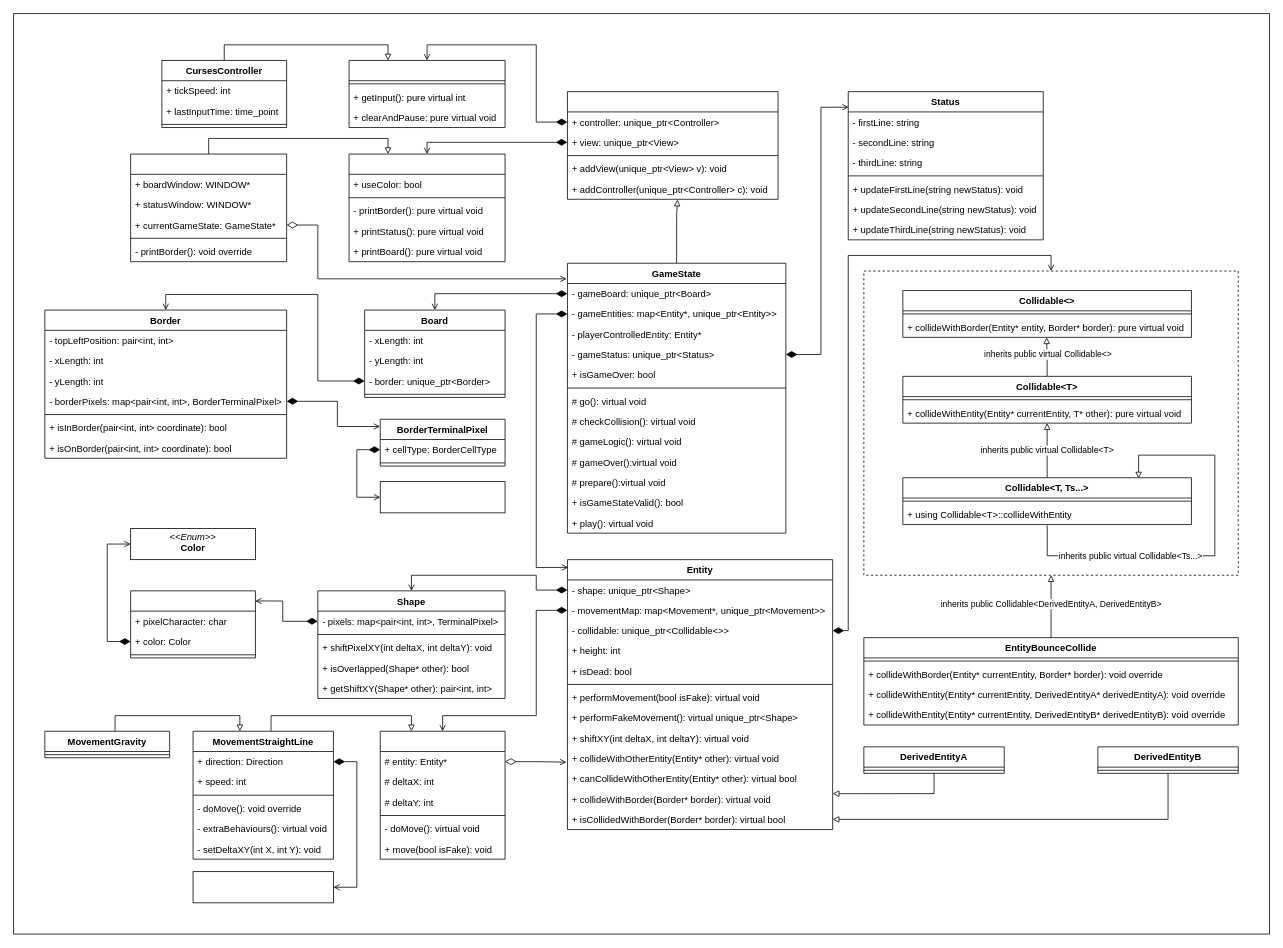
This 1283x948 diagram has some shape labels left out. Each missing label, with the box of its shape:
<<Enum>> BorderCellType: (379, 481, 505, 513)
<<Enum>> Direction: (192, 871, 333, 903)
Controller: (348, 60, 505, 128)
CursesView: (130, 153, 287, 262)
Model: (567, 91, 778, 199)
Movement: (379, 730, 505, 859)
TerminalPixel: (130, 590, 255, 658)
View: (348, 153, 505, 262)
